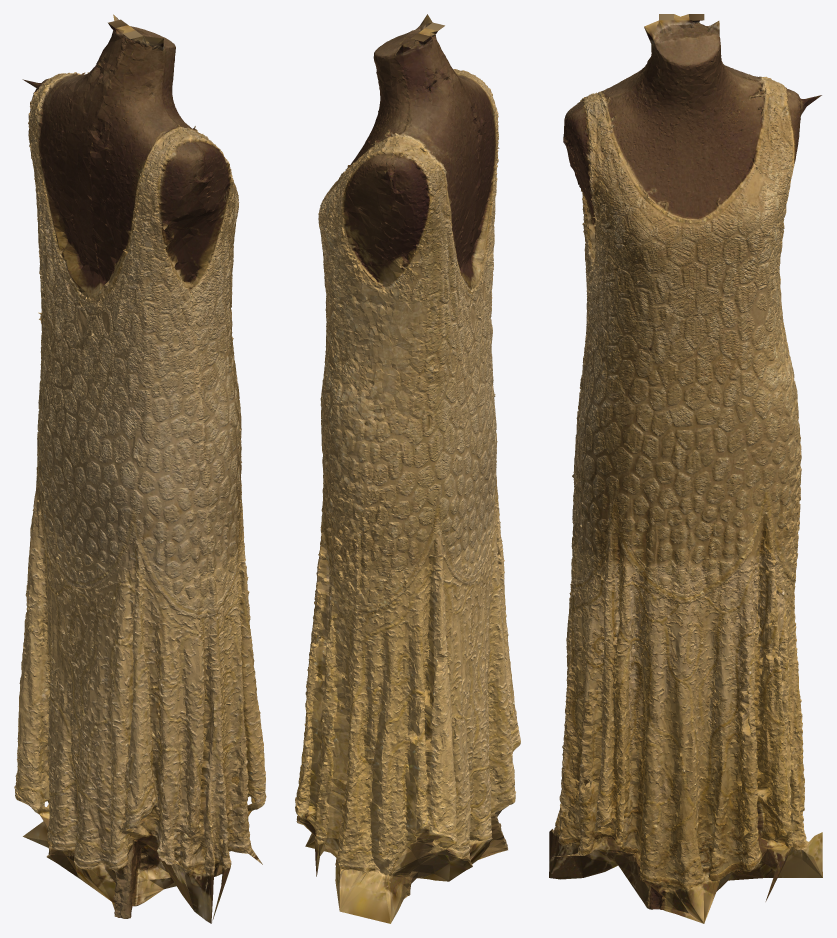
The model's file is dr-2024-121-detail.glb.
3 renders of one model, left to right at view 1: azimuth 30°, elevation 25°; view 2: azimuth 150°, elevation 25°; view 3: azimuth 270°, elevation 25°, orthographic. The views are drawn at different scales.
Visible parts, largest first — view 1: DR.2024; view 2: DR.2024; view 3: DR.2024.
Part boxes in pixels (x1=…): DR.2024: x1=14, y1=14, x2=266, y2=923; DR.2024: x1=295, y1=14, x2=520, y2=923; DR.2024: x1=549, y1=14, x2=822, y2=923.
Size of the model in its own units: 6.16 by 27.43 by 7.96.
1 material, 1 textured.
